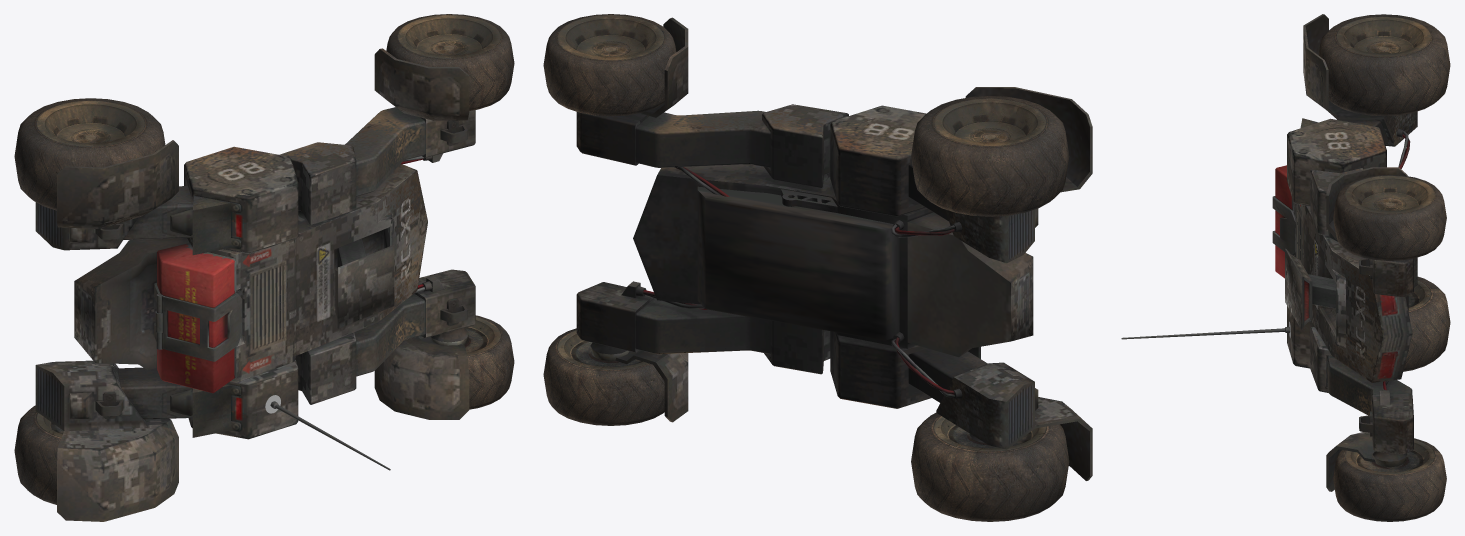
File: veh_t6_drone_rcxd_alt_LOD0.obj
The picture shows the model from 3 angles, left to right: view 1: azimuth 30°, elevation 25°; view 2: azimuth 150°, elevation 25°; view 3: azimuth 270°, elevation 25°; orthographic projection. The views are drawn at different scales.
Parts seen in each view (by area): view 1: mtl_veh_t6_rcxd_alt, mtl_veh_t6_rcxd_extra_bits_alt, mtl_veh_t6_rcxd_wheels_alt; view 2: mtl_veh_t6_rcxd_alt, mtl_veh_t6_rcxd_wheels_alt, mtl_veh_t6_rcxd_extra_bits_alt; view 3: mtl_veh_t6_rcxd_alt, mtl_veh_t6_rcxd_wheels_alt, mtl_veh_t6_rcxd_extra_bits_alt.
Boxes of the visible parts, x1,y1,x2,y2 form: mtl_veh_t6_rcxd_alt: (117,107,475,470); mtl_veh_t6_rcxd_extra_bits_alt: (35,48,469,521); mtl_veh_t6_rcxd_wheels_alt: (14,14,514,504); mtl_veh_t6_rcxd_alt: (576,104,987,442); mtl_veh_t6_rcxd_wheels_alt: (543,14,1069,521); mtl_veh_t6_rcxd_extra_bits_alt: (615,17,1092,480); mtl_veh_t6_rcxd_alt: (1121,118,1413,467); mtl_veh_t6_rcxd_wheels_alt: (1318,14,1450,521); mtl_veh_t6_rcxd_extra_bits_alt: (1300,14,1417,491).
Size of the model in its own units: 93.33 by 66.17 by 62.77.
